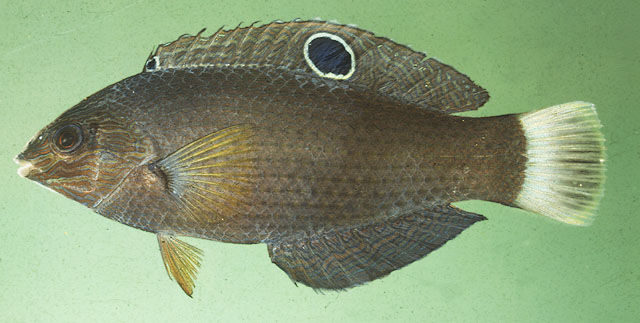fish: (12, 15, 607, 298)
